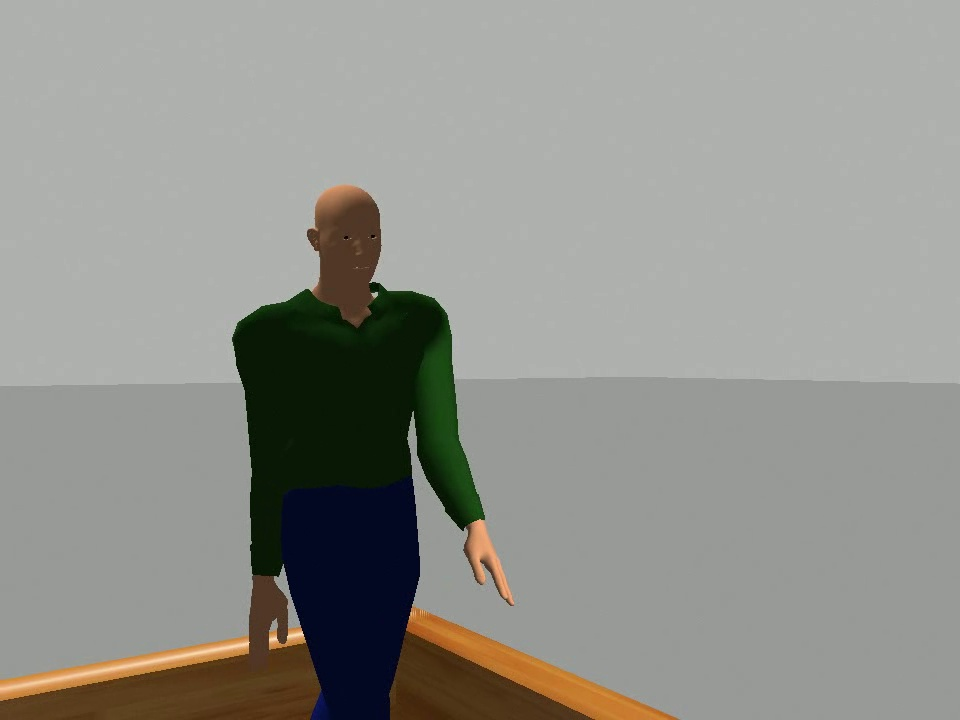person: (224, 178, 521, 720)
